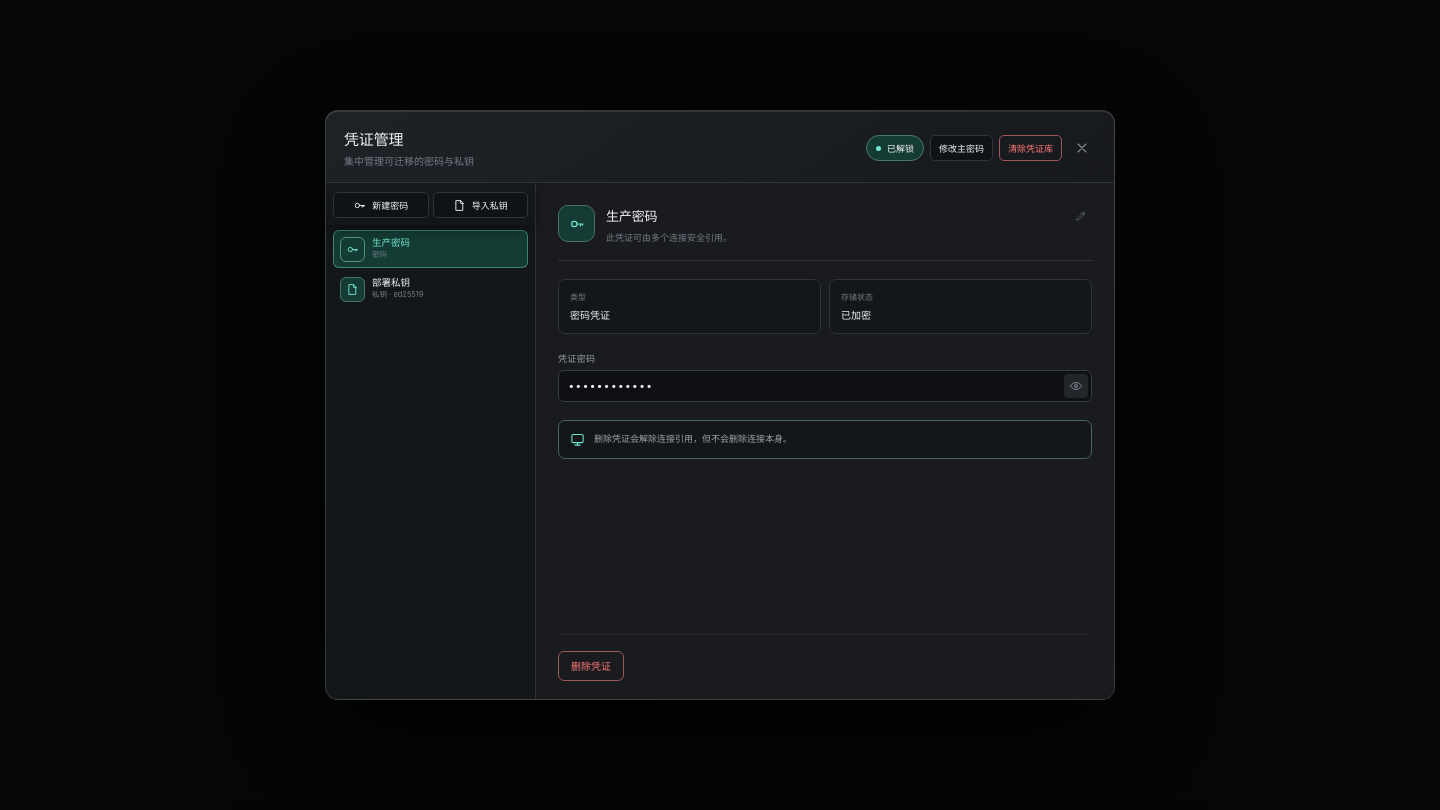
Test: CredentialDialog › keeps rename input available when persistence fails
Click the button named "生产密码密码". click: [430, 249]
box: [333,230,528,268]
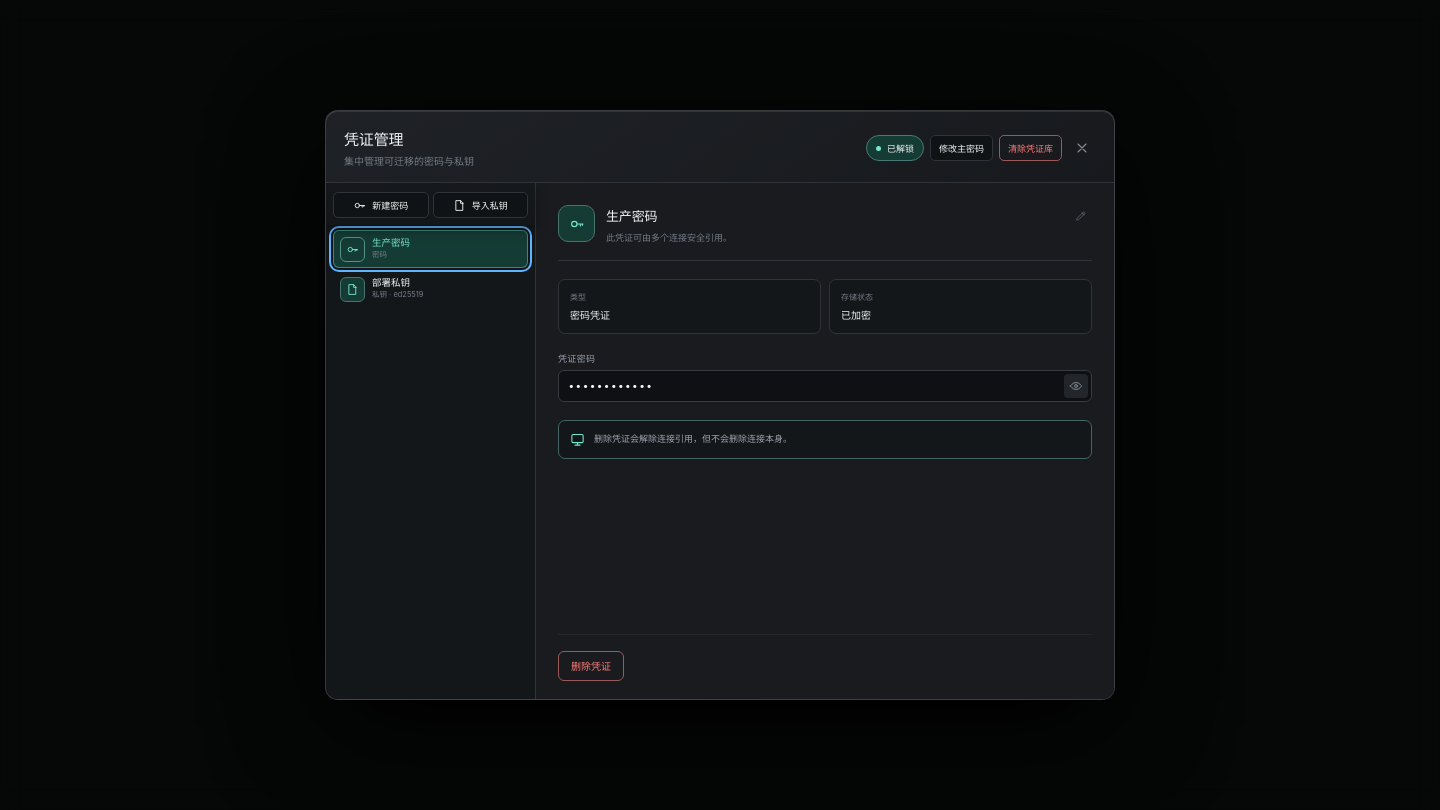
Click the button named "修改凭证名称". click: [1080, 216]
box: [1069,204,1092,227]
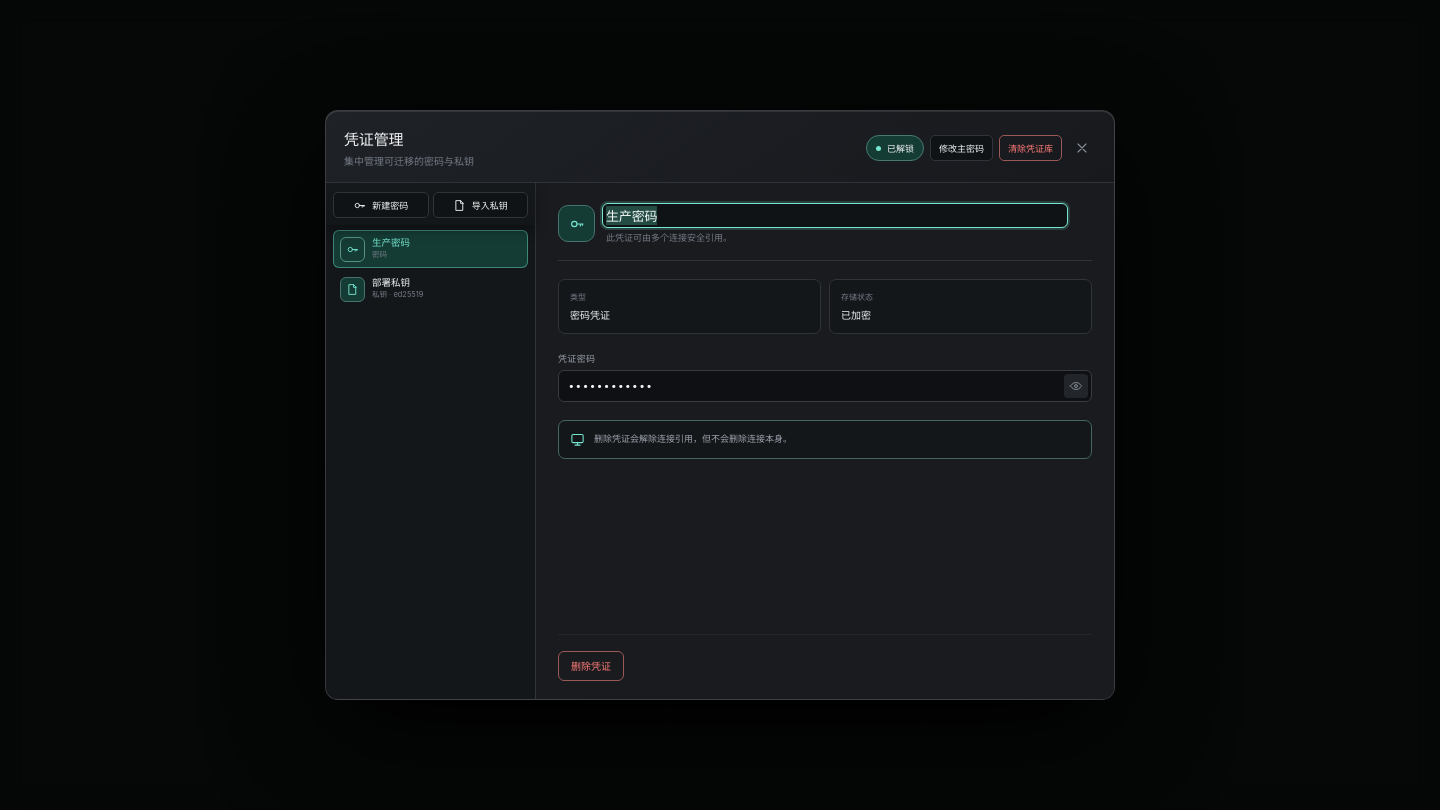
Replace the text in the field named "凭证名称" with "新名称". click: [835, 216]
box: [606,206,1064,226]
Then press Enter
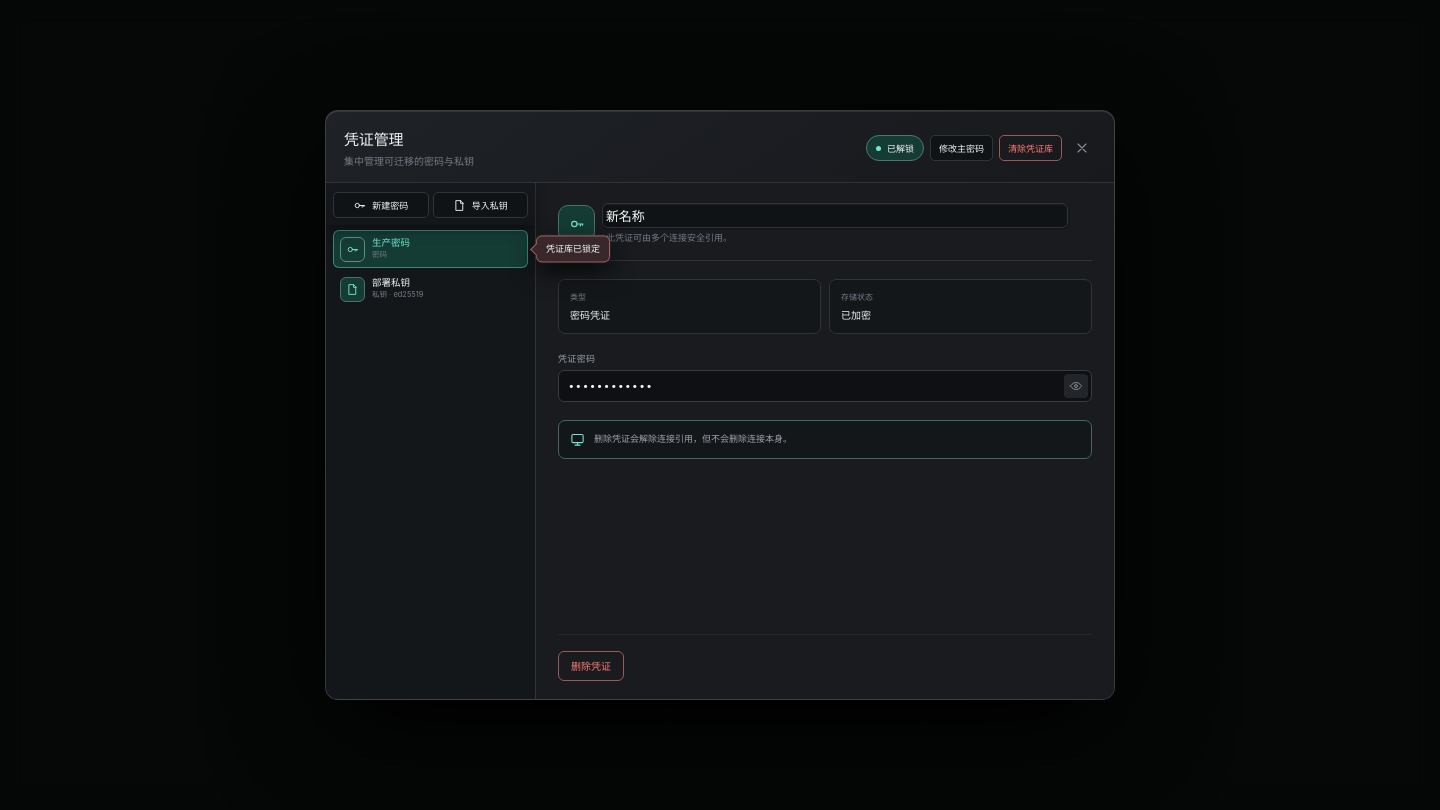
Expected: the message reads "凭证库已锁定", [546,244,600,254]
